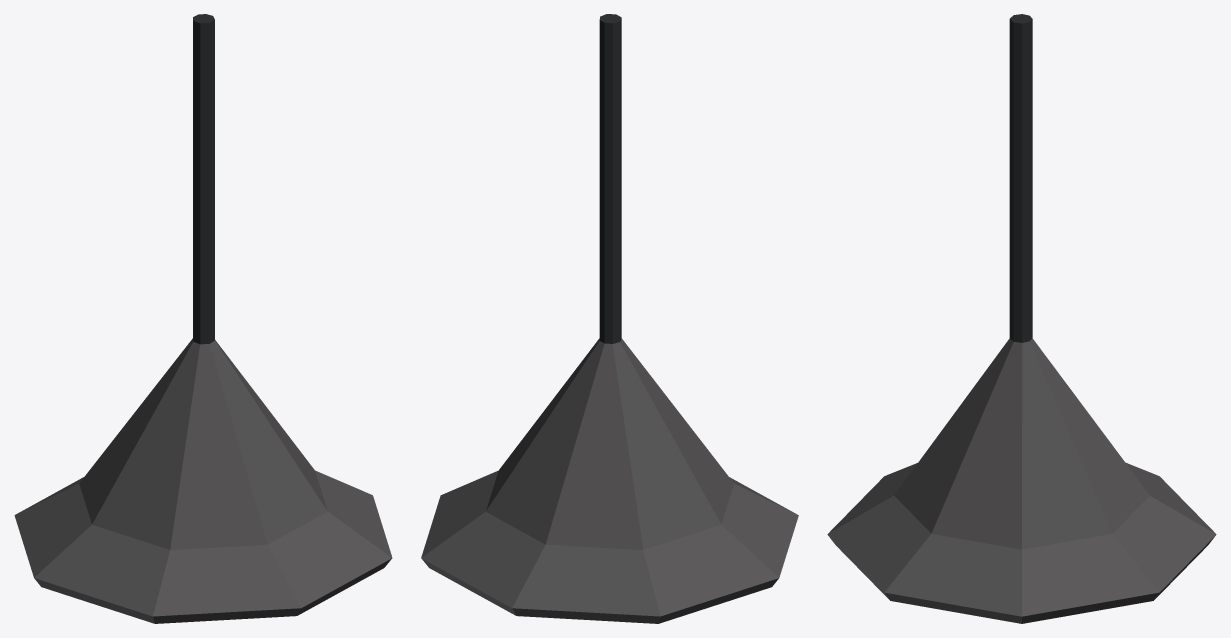
Rendered from SM_Prop_Wire_Lights_03.fbx.
3 views of the same model, side by side, from view 1: azimuth 30°, elevation 25°; view 2: azimuth 150°, elevation 25°; view 3: azimuth 270°, elevation 25° (orthographic).
Parts seen in each view (by area): view 1: SM_Prop_Wire_Lights_03; view 2: SM_Prop_Wire_Lights_03; view 3: SM_Prop_Wire_Lights_03.
Boxes of the visible parts, <box> form: SM_Prop_Wire_Lights_03: <box>14,14,392,623</box>; SM_Prop_Wire_Lights_03: <box>421,14,798,623</box>; SM_Prop_Wire_Lights_03: <box>827,14,1216,623</box>.
Size of the model in its own units: 61.52 by 94.75 by 61.52.
